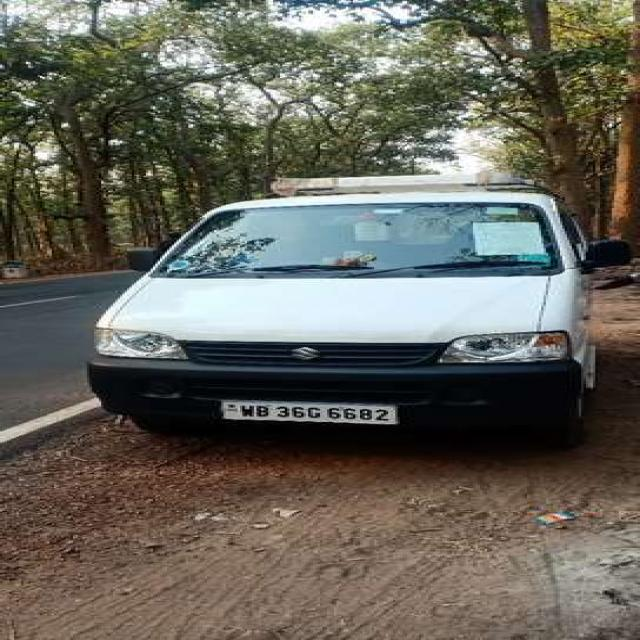Plate: (218, 399, 397, 425)
